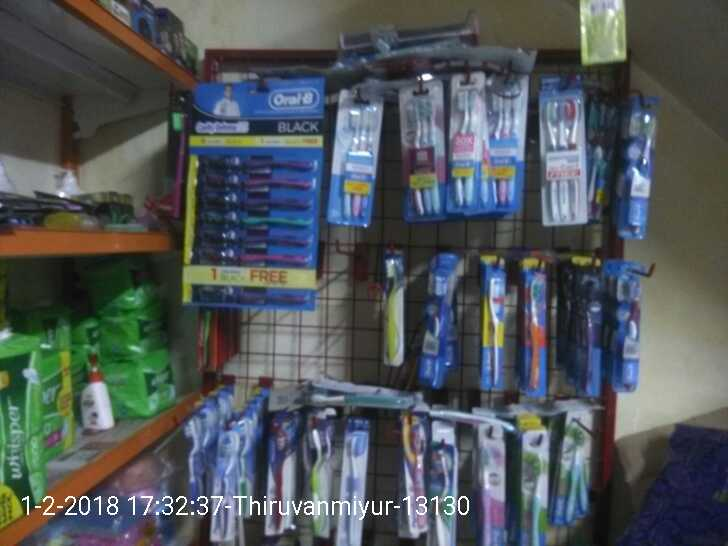pharmacy: (104, 257, 181, 429), (1, 328, 46, 527), (540, 83, 595, 224), (401, 87, 443, 221), (338, 104, 382, 226), (622, 97, 659, 242), (486, 84, 526, 215), (447, 83, 482, 217), (429, 261, 460, 396), (520, 273, 555, 392), (186, 246, 322, 272), (377, 255, 409, 363), (186, 222, 321, 246), (191, 186, 314, 210), (199, 144, 320, 168), (487, 263, 507, 391), (198, 206, 318, 225), (200, 164, 314, 183)
